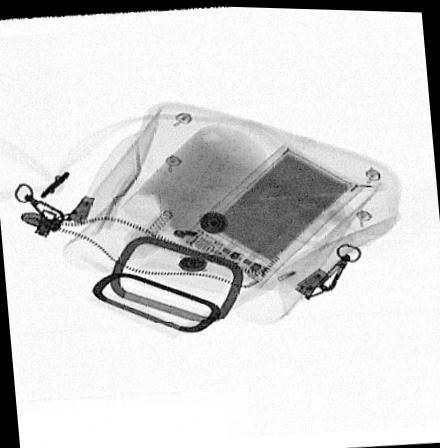Powerbank: (185, 142, 359, 286)
